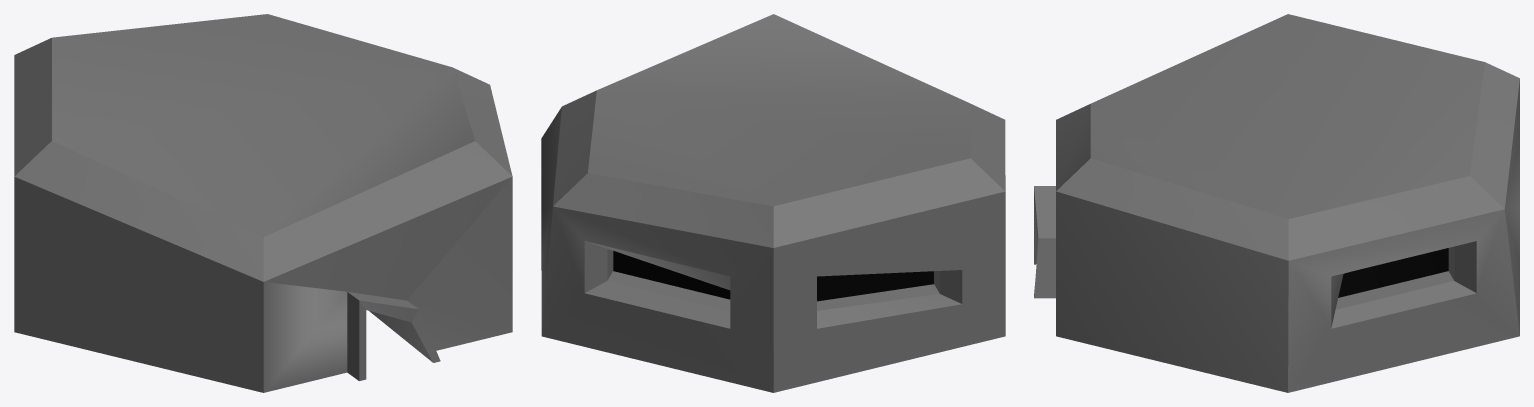
Rendered from broken_machinegunners.fbx.
3 views of the same model, side by side, from view 1: azimuth 30°, elevation 25°; view 2: azimuth 150°, elevation 25°; view 3: azimuth 270°, elevation 25° (orthographic). The views are drawn at different scales.
Parts seen in each view (by area): view 1: machinegun_broken_t3; view 2: machinegun_broken_t3; view 3: machinegun_broken_t3.
Boxes of the visible parts, left/top/right/bottom form: machinegun_broken_t3: left=14, top=14, right=512, bottom=392; machinegun_broken_t3: left=541, top=14, right=1005, bottom=392; machinegun_broken_t3: left=1034, top=14, right=1519, bottom=392.
Bounding box in the file's own units: 1308 × 477 × 1186.
6 materials, 5 textured.
